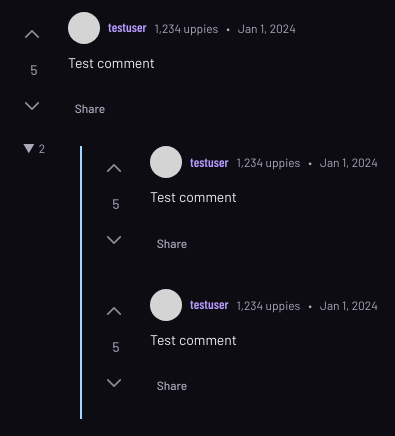
it: CommentItem - Collapse/Expand Badge › Badge icon and text › should show ▶ icon when collapsed
Click to collapse
Click the button titled "Collapse thread": x=34, y=148 [15, 136, 53, 160]
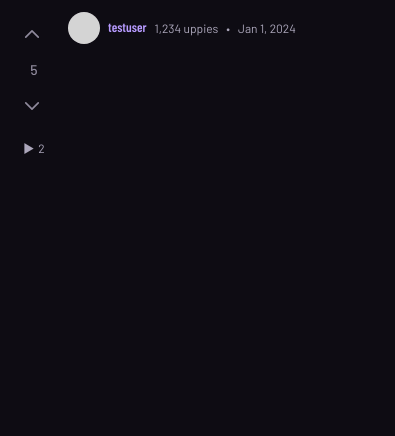
Expected: the button titled "Expand thread" shows "▶", [15, 136, 53, 160]
